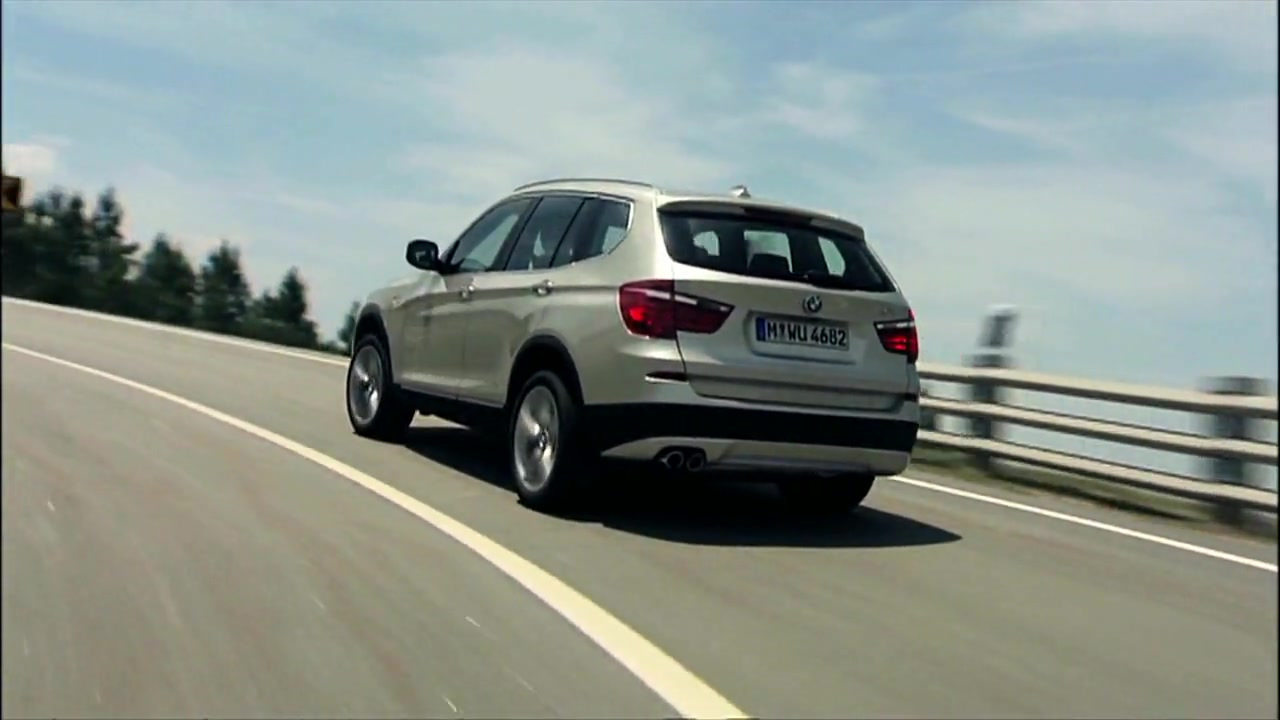car: (344, 175, 927, 523)
